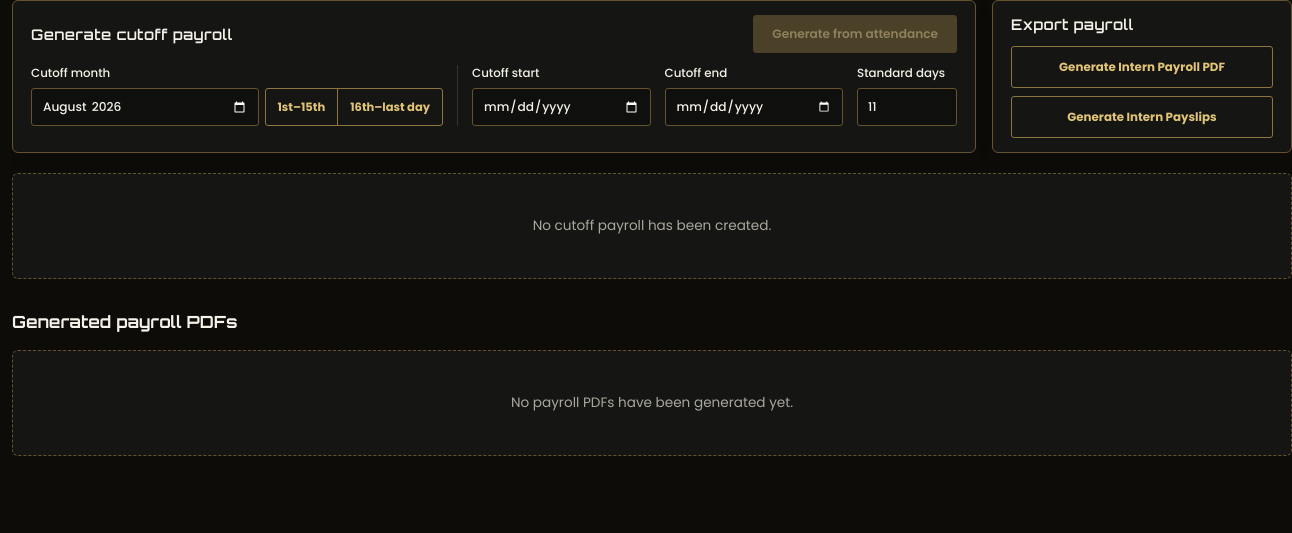
Scenario: PayrollWorkspace › shows a message instead of generating when there are no records
This screenshot has width=1292, height=533.
Click the button "Generate Intern Payroll PDF".
click(1142, 67)  # box [1011,46,1273,88]
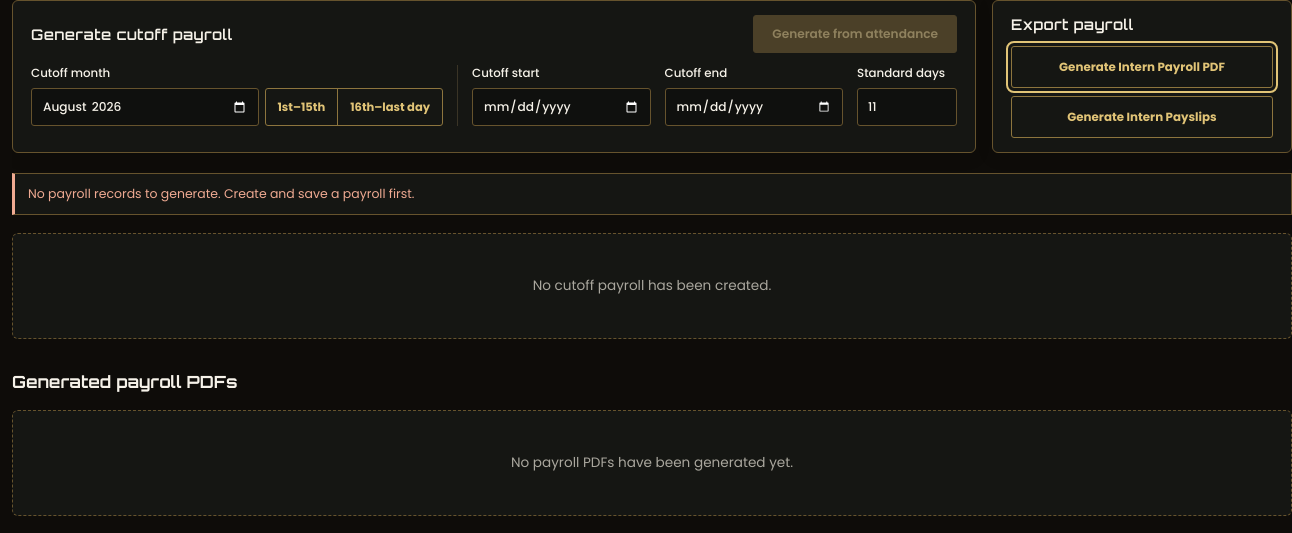
Result: the text "No payroll records to generate. Create and save a payroll first." is shown at [12,173,1291,215]
